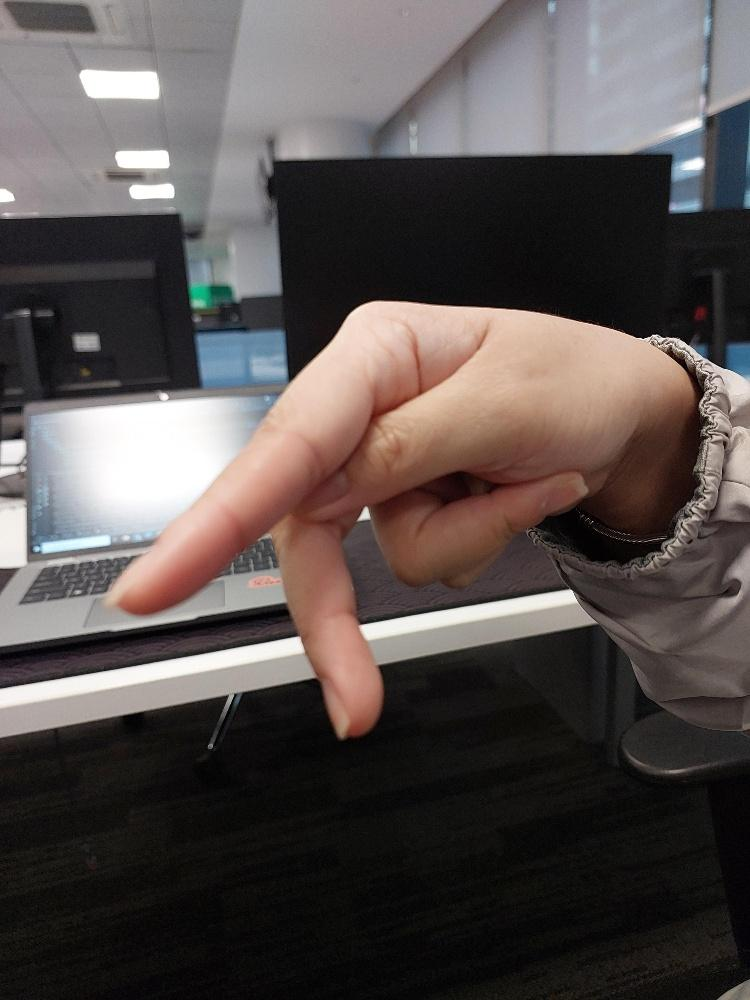p: (113, 299, 631, 740)
